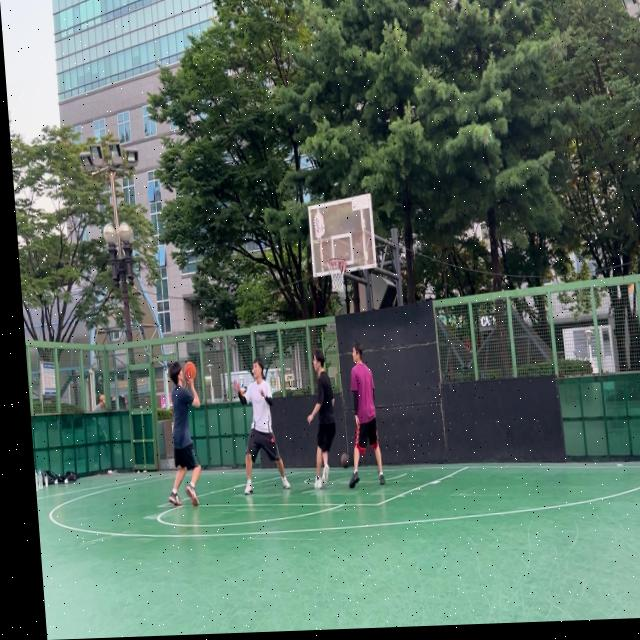basketball: (183, 361, 197, 381)
hoop: (326, 257, 348, 293)
